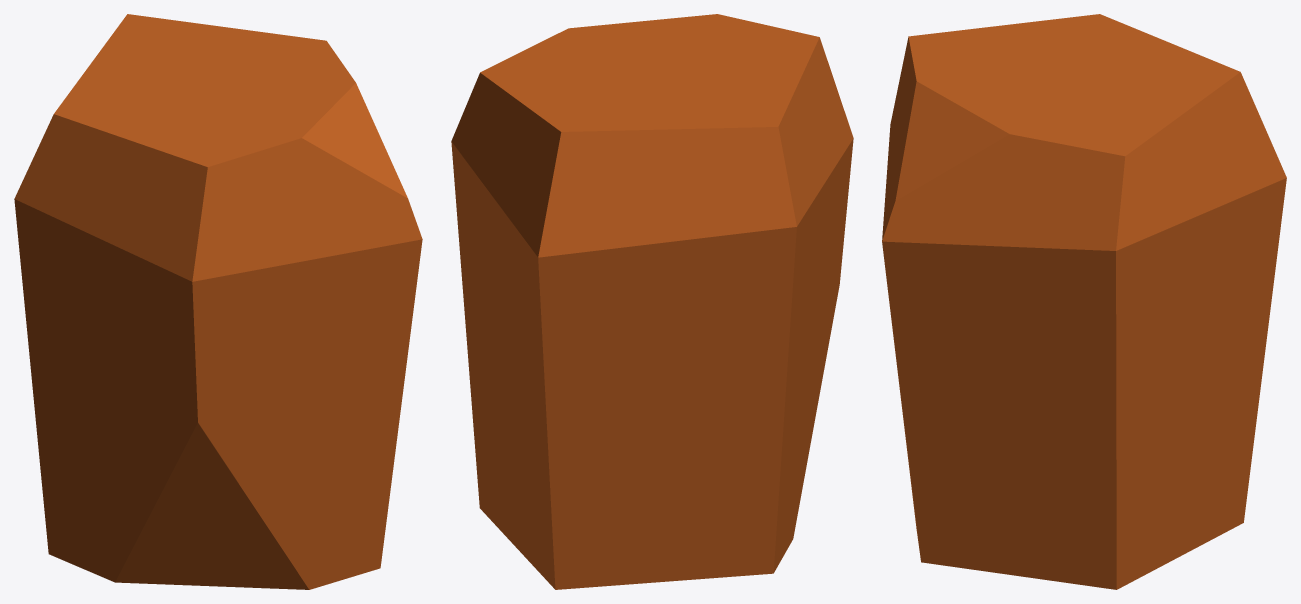
Rendered from RockPart1-col.glb.
3 renders of one model, left to right at view 1: azimuth 30°, elevation 25°; view 2: azimuth 150°, elevation 25°; view 3: azimuth 270°, elevation 25°, orthographic. The views are drawn at different scales.
Visible parts, largest first — view 1: RockPart1-col; view 2: RockPart1-col; view 3: RockPart1-col.
Part boxes in pixels (box(x1,y1,x2,y2)): RockPart1-col: box(14, 14, 422, 589); RockPart1-col: box(451, 14, 853, 589); RockPart1-col: box(882, 14, 1286, 589).
Bounding box in the file's own units: 2.21 × 2.78 × 2.27.
